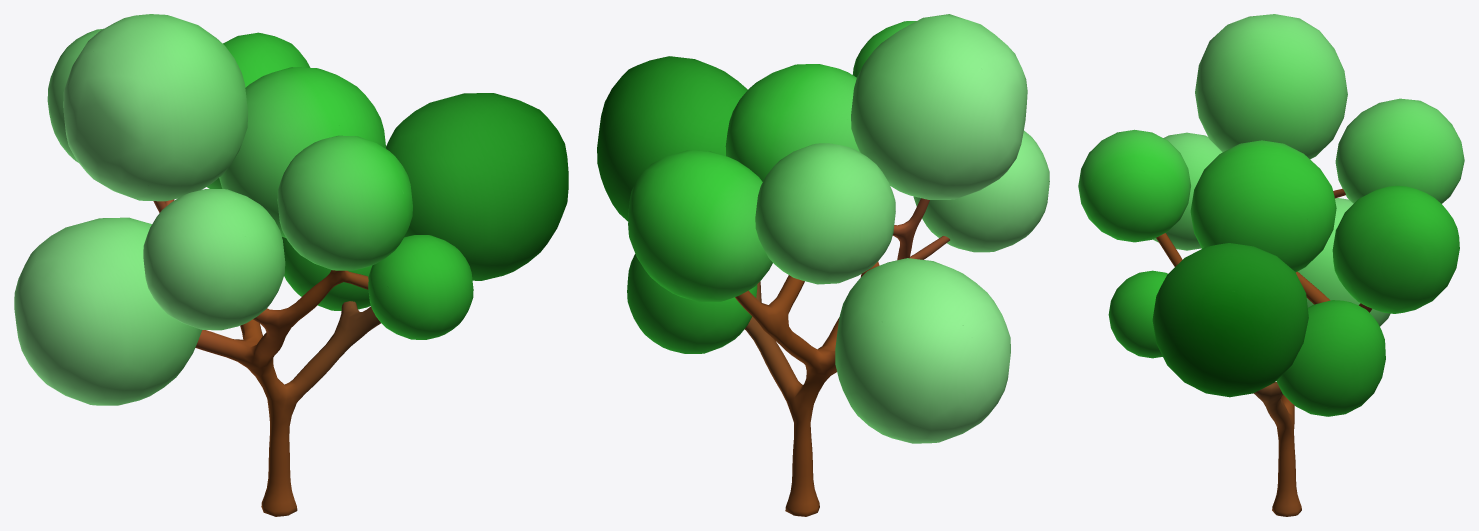
Rendered from Tree_LOD1.glb.
3 views of the same model, side by side, from view 1: azimuth 30°, elevation 25°; view 2: azimuth 150°, elevation 25°; view 3: azimuth 270°, elevation 25° (orthographic). The views are drawn at different scales.
Parts seen in each view (by area): view 1: Folage_mpoly.012, Trunk_mpoly; view 2: Folage_mpoly.012, Trunk_mpoly; view 3: Folage_mpoly.012, Trunk_mpoly.
Part boxes in pixels (<box>): Folage_mpoly.012: <box>14,14,568,405</box>; Trunk_mpoly: <box>153,199,380,516</box>; Folage_mpoly.012: <box>597,14,1049,443</box>; Trunk_mpoly: <box>735,198,949,516</box>; Folage_mpoly.012: <box>1078,14,1464,416</box>; Trunk_mpoly: <box>1156,188,1371,516</box>.
Bounding box in the file's own units: 11.58 × 12.56 × 10.
Materials: 2 (2 with a texture image).
